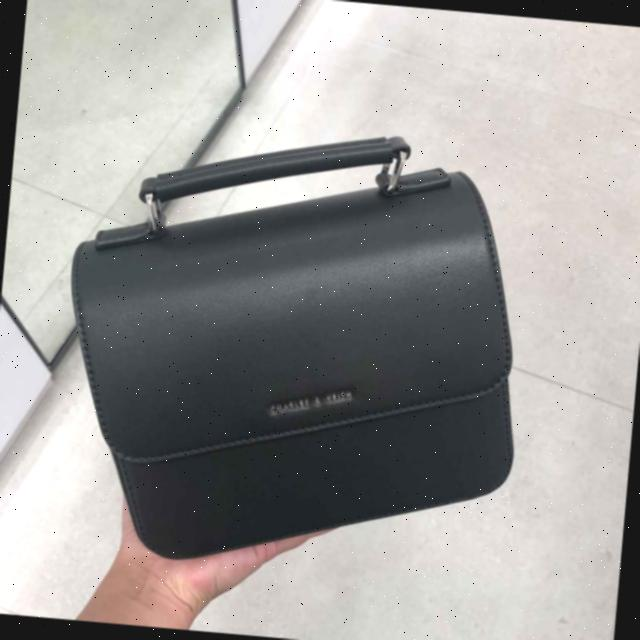Handbag: (42, 110, 546, 588)
